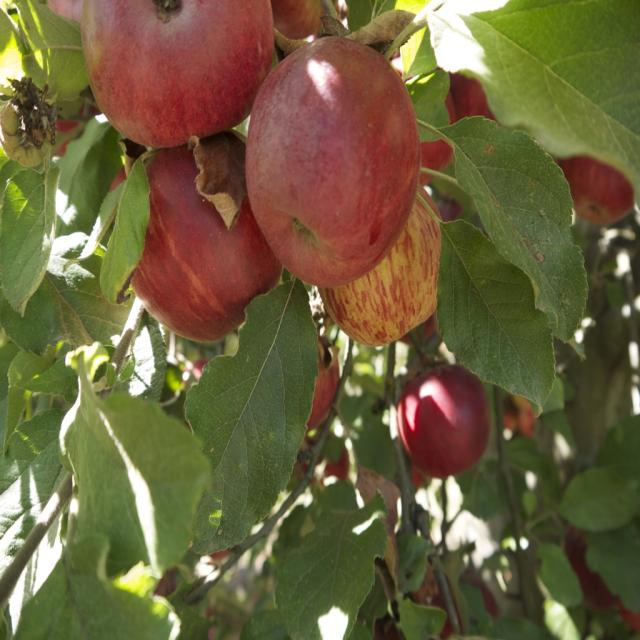Healty Apple: (43, 0, 639, 478), (244, 28, 421, 294)
